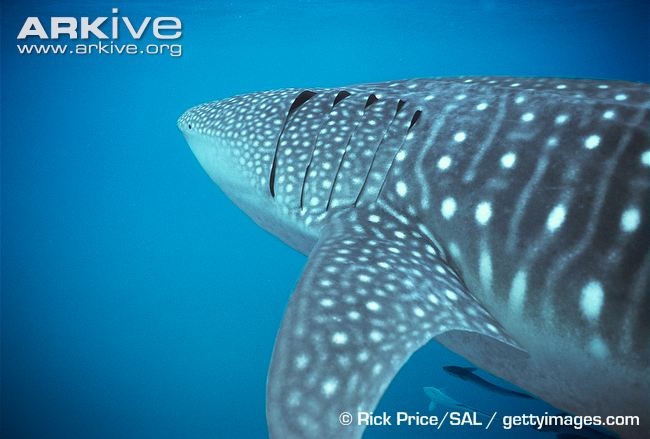shark: (143, 60, 644, 433)
